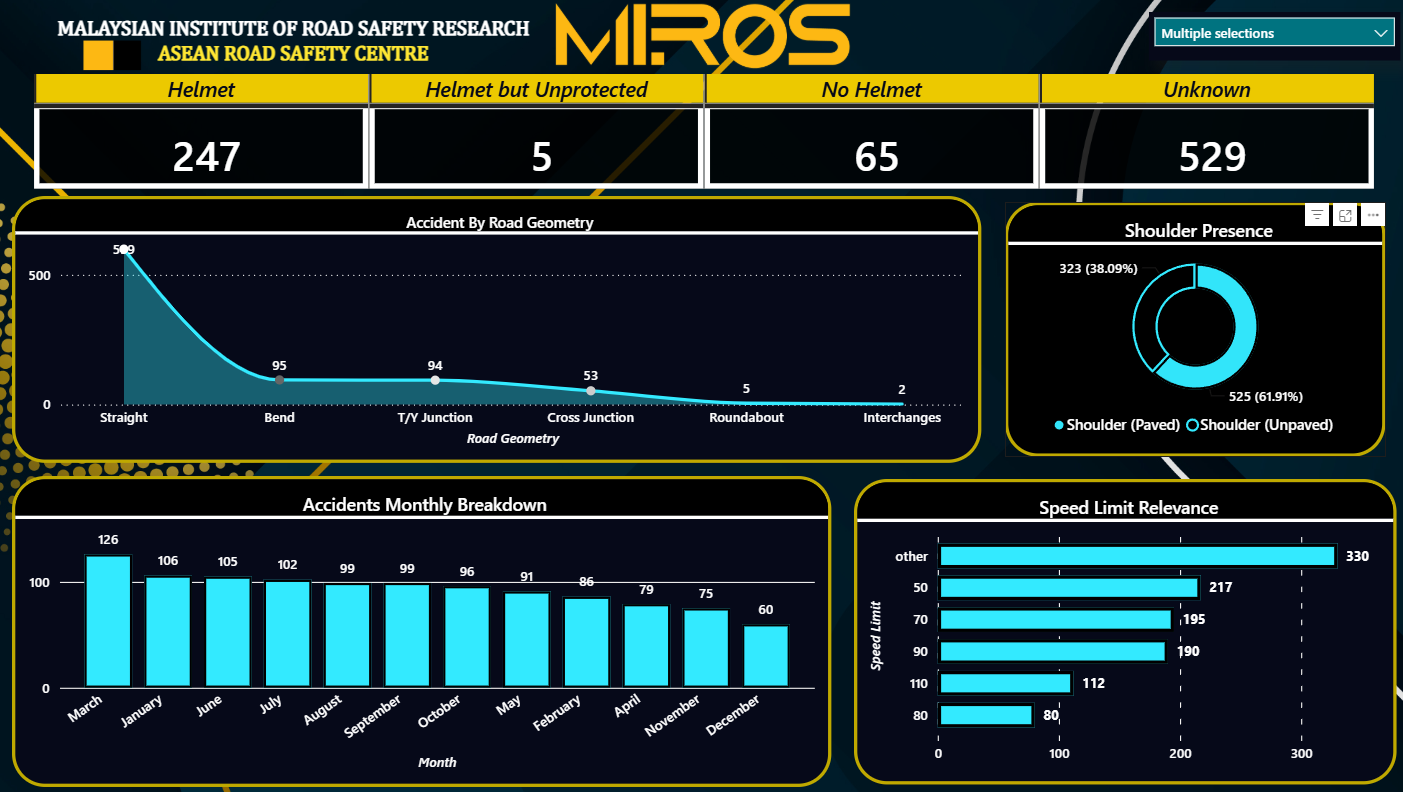

The dashboard page shown, as its layout file describes it:
{"tool":"powerbi","page":{"name":"Finalized","canvas":[1280,720],"ordinal":2},"visuals":[{"type":"lineChart","title":"Accident By Road Geometry","fields":{"Category":["accident info.RoadGeometryDesc"],"Y":["Count(accident info.accident_info_id)"]},"box":[11.8,178.6,878.7,242.1],"z":0},{"type":"donutChart","title":"Shoulder Presence","fields":{"Category":["accident info.Shoulder Presence"],"Series":["car driver info.VehicleCategoryClean"],"Y":["Count(accident info.accident_info_id)"]},"box":[912.2,184.1,345.5,231.2],"z":1000},{"type":"slicer","fields":{"Values":["car driver info.VehicleCategoryClean"]},"box":[1042.8,11.8,227.6,44.4],"z":2000},{"type":"lineStackedColumnComboChart","title":"Accidents Monthly Breakdown","fields":{"Category":["Calendar.Month"],"Y":["Count(accident info.accident_info_id)"]},"box":[11.8,432.5,742.7,282],"z":3000},{"type":"barChart","title":"Speed Limit Relevance","fields":{"Category":["accident info.SppedLimit"],"Y":["Count(accident info.accident_info_id)"]},"box":[775.3,435.3,492.4,276.6],"z":4000},{"type":"cardVisual","fields":{"Data":["Count(accident info.accident_info_id)"],"Rows":["car driver info.KeledarUsed"]},"box":[11.8,68,1258.6,104.3],"z":5000},{"type":"image","box":[504.2,0,271.1,68],"z":6000},{"type":"textbox","box":[29.9,11.8,474.3,37.2],"z":7000},{"type":"image","box":[63.5,34.5,88,29.9],"z":8000},{"type":"textbox","box":[122.4,34.5,289.3,37.2],"z":9000}]}

Visuals, with their boxes in screenshot pixels (x1, y1, x2, y2), scaled from the page's 1280x720 canvas onto the 1403x792 screenshot:
"Accident By Road Geometry" lineChart: <region>13, 196, 976, 463</region>
"Shoulder Presence" donutChart: <region>1000, 203, 1379, 457</region>
slicer - car driver info.VehicleCategoryClean: <region>1143, 13, 1392, 62</region>
"Accidents Monthly Breakdown" lineStackedColumnComboChart: <region>13, 476, 827, 786</region>
"Speed Limit Relevance" barChart: <region>850, 479, 1390, 783</region>
cardVisual - Count(accident info.accident_info_id) x car driver info.KeledarUsed: <region>13, 75, 1392, 190</region>
image: <region>553, 0, 850, 75</region>
textbox: <region>33, 13, 553, 54</region>
image: <region>70, 38, 166, 71</region>
textbox: <region>134, 38, 451, 79</region>
